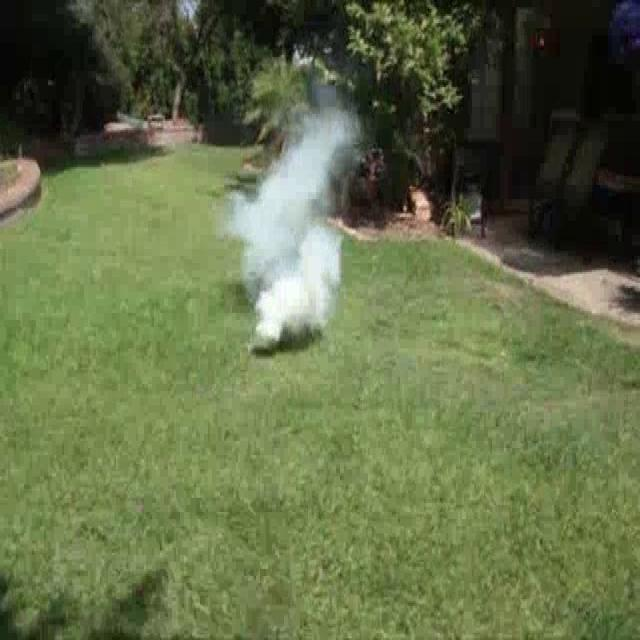Smoke: (214, 55, 364, 303), (251, 220, 345, 360)
